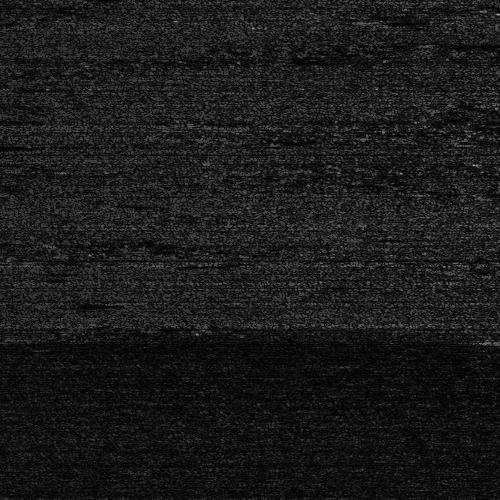object: (469, 3, 500, 12), (149, 259, 190, 264), (463, 339, 500, 344), (430, 40, 451, 45)
shadow: (440, 40, 500, 45), (169, 259, 215, 264), (485, 3, 500, 12), (490, 339, 500, 344)
